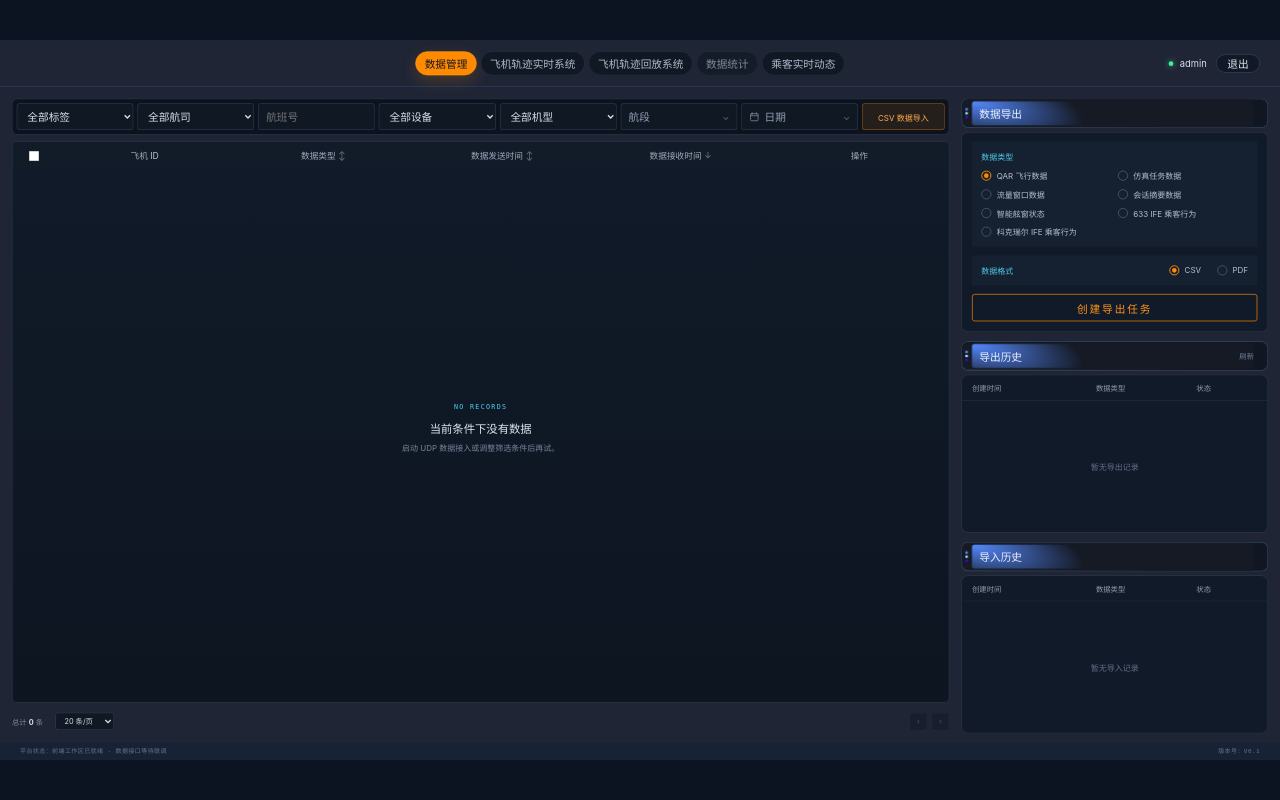
it: WorkspaceView filters › opens route and date as mutually exclusive anchored popovers
Step 1. Click the button with class "filter-trigger" showing "航段 ⌄" → [679, 117], box top-left (620, 103), bottom-right (737, 130)
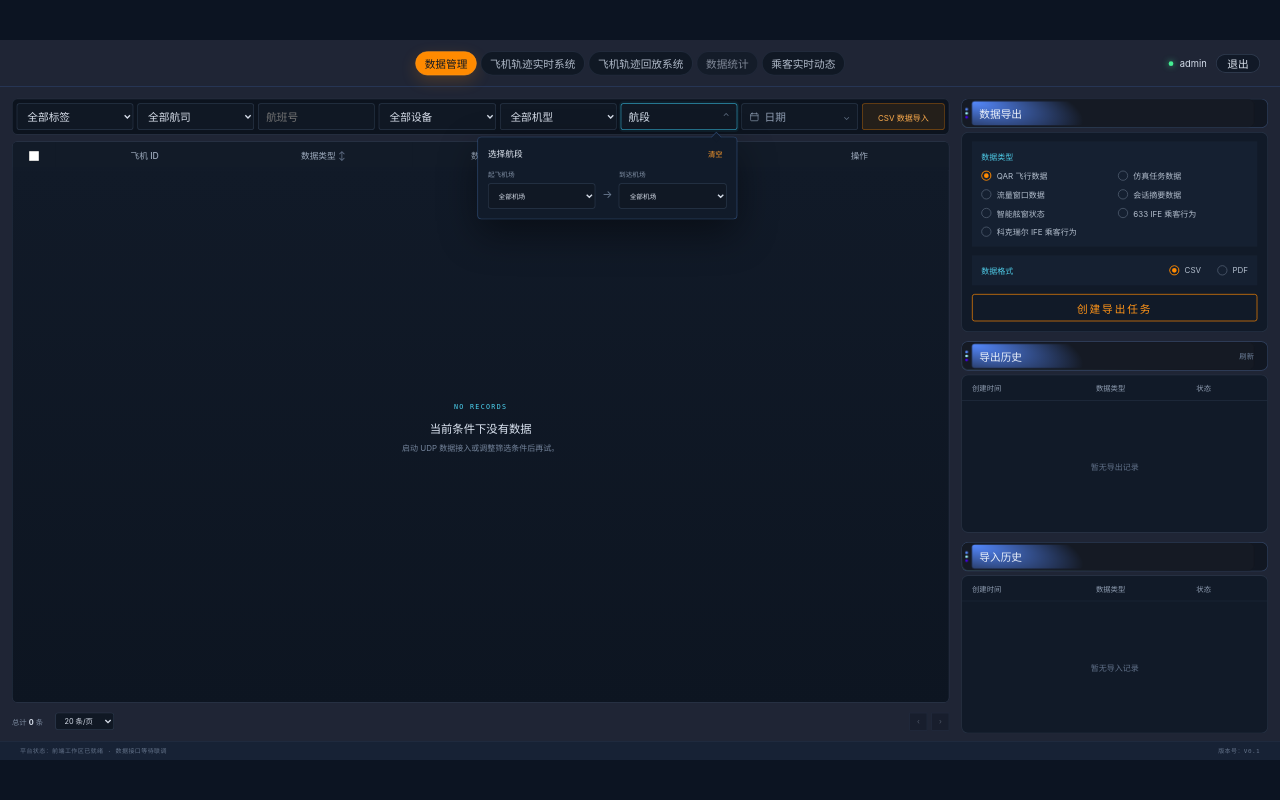
Expected: the dropdown named "起飞机场" is shown, top-left (488, 183), bottom-right (596, 209)
Step 2. Click the button with class "filter-trigger" showing "日期 ⌄" → [800, 117], box top-left (741, 103), bottom-right (858, 130)
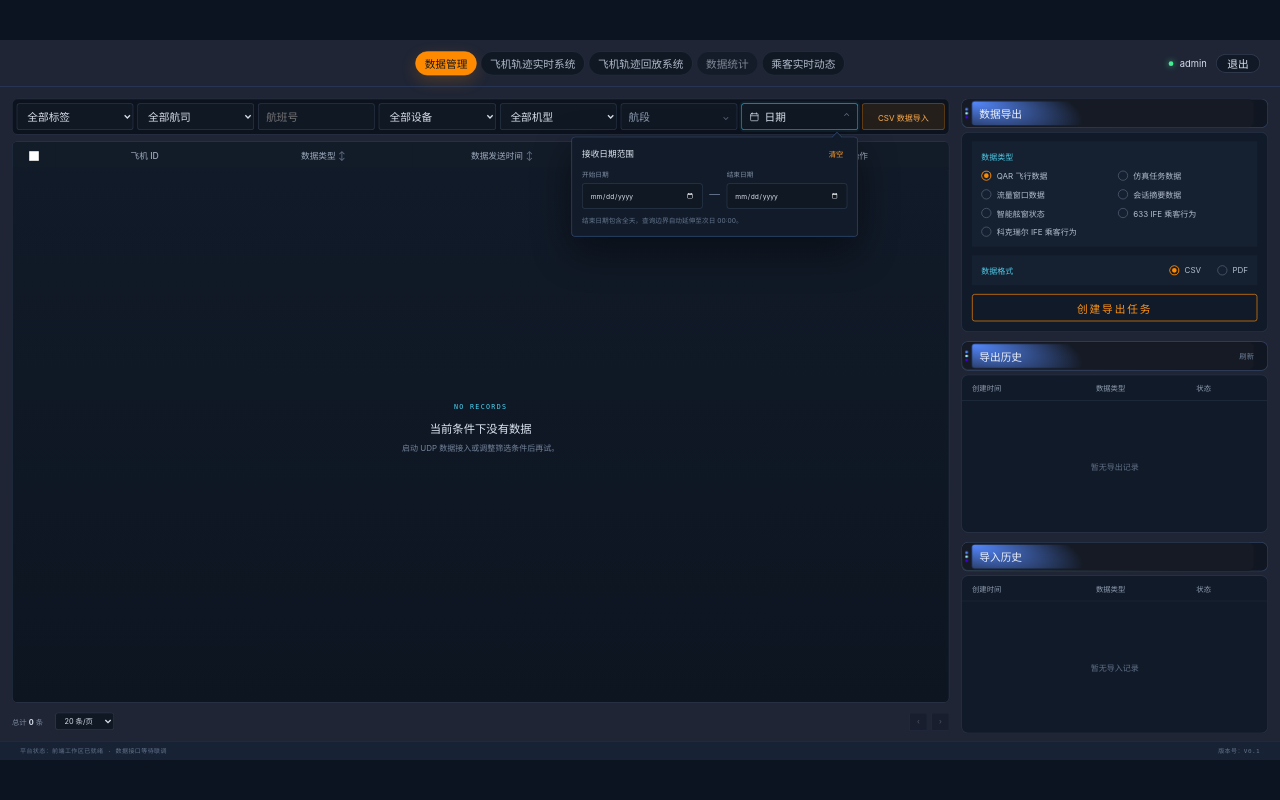
Expected: the date field named "接收开始日期" is shown, top-left (582, 183), bottom-right (703, 209)
